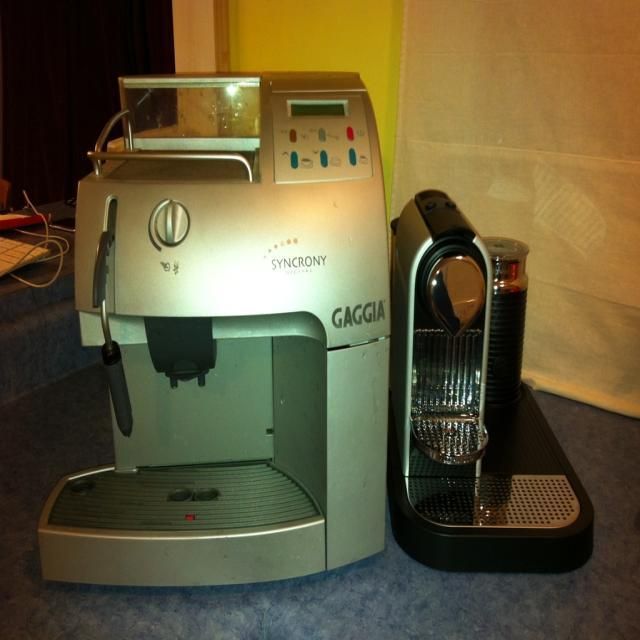Coffee-Machine: (27, 60, 400, 596)
